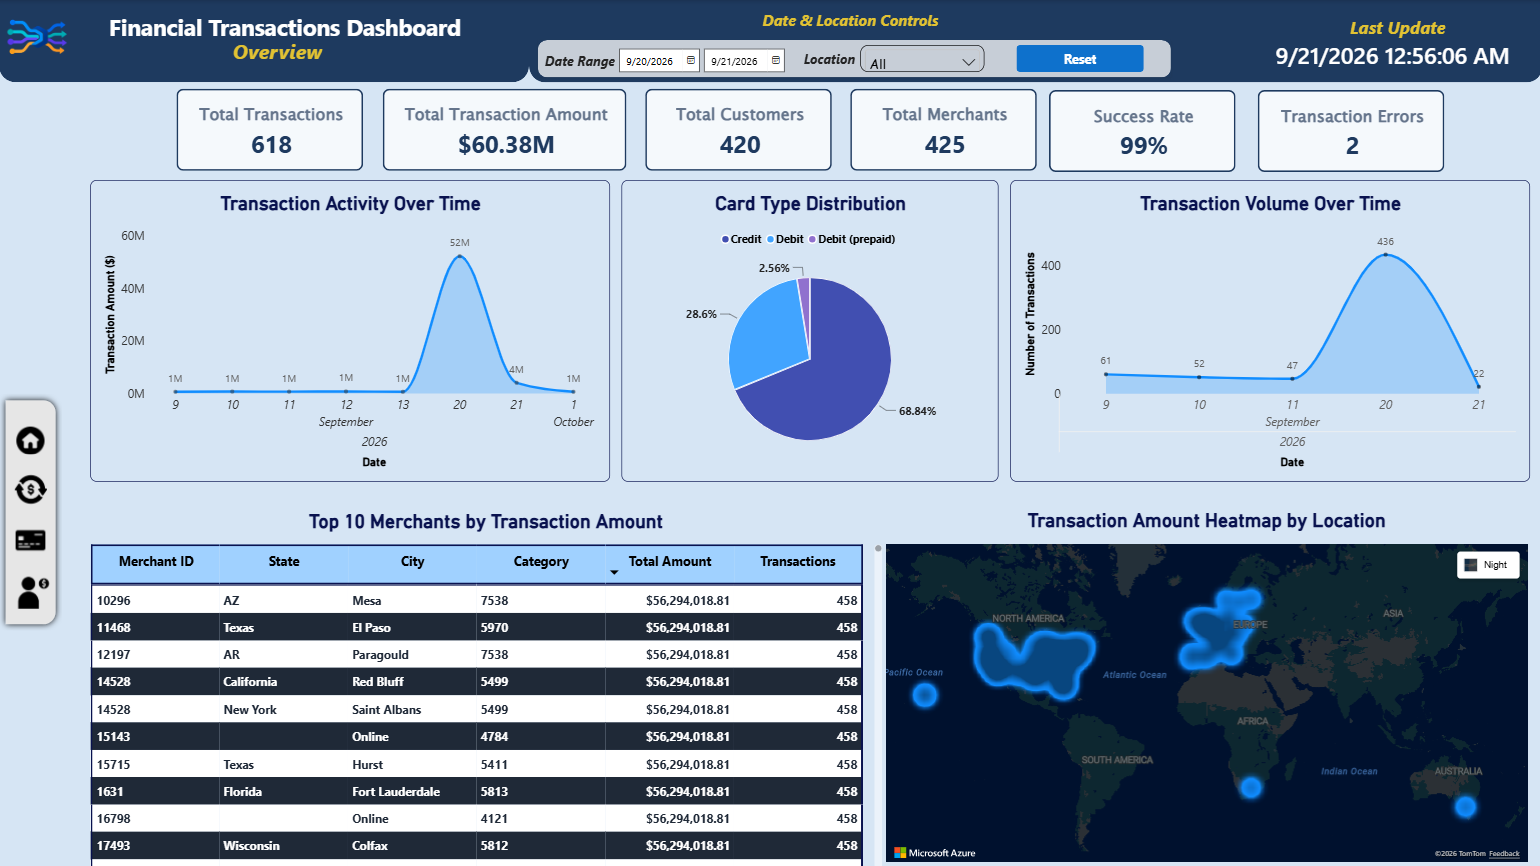

The dashboard page shown, as its layout file describes it:
{"tool":"powerbi","page":{"name":"overview","canvas":[1920,1080],"ordinal":1},"visuals":[{"type":"shape","box":[0,0,659.1,102.4],"z":0},{"type":"shape","box":[670.3,50.3,787.6,46.5],"z":0,"group":"g1"},{"type":"shape","box":[0,489,78.5,294.8],"z":0,"group":"g2"},{"type":"slicer","fields":{"Values":["fact_transactions.timestamp"]},"box":[763.4,55.8,223.4,37.2],"z":1000,"group":"g1"},{"type":"cardVisual","fields":{"Data":["daily_amount_summary.Total Transactions"]},"box":[220.4,109.6,232.7,102.4],"z":1000},{"type":"image","box":[0,3.5,94.2,85.5],"z":2000},{"type":"shape","box":[674,50.3,98.7,50.3],"z":2000,"group":"g1"},{"type":"shape","box":[659.2,0,1260.8,102.7],"z":3000},{"type":"shape","box":[983.1,48.4,100.5,50.3],"z":3000,"group":"g1"},{"type":"shape","box":[136.9,3.6,437.7,59.4],"z":4000},{"type":"slicer","fields":{"Values":["dim_merchant.merchant_state"]},"box":[1070.6,55.8,154.5,33.5],"z":4000,"group":"g1"},{"type":"shape","box":[279.2,37.8,133.3,50.4],"z":5000},{"type":"actionButton","box":[1266.1,55.8,158.3,33.5],"z":5000,"group":"g1"},{"type":"cardVisual","title":"Last Update","fields":{"Data":["Min(Last_Update.Last Update)"]},"box":[1571.5,46.5,337,42.8],"z":6000},{"type":"shape","box":[1625.5,16.8,227.2,33.5],"z":7000},{"type":"shape","box":[919.8,0,277.4,50.3],"z":8000},{"type":"group","id":"g1","title":"Group 1","box":[670.3,48.4,787.6,52.1],"z":9000},{"type":"cardVisual","fields":{"Data":["Sum(daily_amount_summary.total_transaction_amount)"]},"box":[477.4,109.6,303.5,102.4],"z":10000},{"type":"cardVisual","fields":{"Data":["dim_customer.Total Customers"]},"box":[803.2,109.6,232.7,102.4],"z":11000},{"type":"cardVisual","fields":{"Data":["dim_merchant.Total Merchants"]},"box":[1058.3,109.6,232.7,102.4],"z":12000},{"type":"cardVisual","fields":{"Data":["daily_status_summary.Success Rate"]},"box":[1305.9,111.5,232.7,102.4],"z":13000},{"type":"cardVisual","fields":{"Data":["transaction_error_summary.Transaction Errors"]},"box":[1564.7,111.5,232.7,102.4],"z":14000},{"type":"group","id":"g2","title":"Group 2","box":[0,489,79.3,294.8],"z":15000},{"type":"lineChart","title":"Transaction Activity Over Time","fields":{"Category":["daily_amount_summary.transaction_date.Variation.Date Hierarchy.Year","daily_amount_summary.transaction_date.Variation.Date Hierarchy.Month","daily_amount_summary.transaction_date.Variation.Date Hierarchy.Day"],"Y":["daily_amount_summary.Total Transaction Amount"]},"box":[114,224.2,646.4,375.5],"z":16000},{"type":"actionButton","box":[0.7,514.1,78.3,66.3],"z":16000,"group":"g2"},{"type":"lineChart","title":"Transaction Volume Over Time","fields":{"Category":["daily_status_summary.transaction_date.Variation.Date Hierarchy.Year","daily_status_summary.transaction_date.Variation.Date Hierarchy.Month","daily_status_summary.transaction_date.Variation.Date Hierarchy.Day"],"Y":["Sum(daily_status_summary.total_transactions)"]},"box":[1257.2,224.2,646.4,375.5],"z":17000},{"type":"actionButton","box":[11.1,577,57.4,61.1],"z":17000,"group":"g2"},{"type":"pieChart","title":"Card Type Distribution","fields":{"Category":["dim_card.card_type"],"Y":["CountNonNull(dim_card.card_id)"]},"box":[773.4,224.2,468.9,375.5],"z":18000},{"type":"actionButton","box":[5,634.2,69.6,75.1],"z":18000,"group":"g2"},{"type":"tableEx","title":"Top 10 Merchants by Transaction Amount","fields":{"Values":["dim_merchant.merchant_id","dim_merchant.merchant_state","dim_merchant.merchant_city","dim_merchant.merchant_category_code","Sum(fact_transactions.amount)","fact_transactions.transaction_id"]},"box":[114,618.3,984.5,461.4],"z":19000},{"type":"actionButton","box":[8,700.5,71.2,71.5],"z":19000,"group":"g2"},{"type":"azureMap","title":"Transaction Amount Heatmap by Location","fields":{"Category":["geographic_summary.merchant_city"],"Size":["Sum(geographic_summary.total_transaction_amount)"]},"box":[1098.8,619.2,805.8,457],"z":20000}]}

Visuals, with their boxes in screenshot pixels (x1, y1, x2, y2), scaled from the page's 1920x1080 canvas onto the 1540x866 screenshot:
shape: crop(0, 0, 529, 82)
shape: crop(538, 40, 1169, 78)
shape: crop(0, 392, 63, 628)
slicer - fact_transactions.timestamp: crop(612, 45, 791, 75)
cardVisual - daily_amount_summary.Total Transactions: crop(177, 88, 363, 170)
image: crop(0, 3, 76, 71)
shape: crop(541, 40, 620, 81)
shape: crop(529, 0, 1539, 82)
shape: crop(789, 39, 869, 79)
shape: crop(110, 3, 461, 51)
slicer - dim_merchant.merchant_state: crop(859, 45, 983, 72)
shape: crop(224, 30, 331, 71)
actionButton: crop(1016, 45, 1142, 72)
"Last Update" cardVisual: crop(1260, 37, 1531, 72)
shape: crop(1304, 13, 1486, 40)
shape: crop(738, 0, 960, 40)
"Group 1" group: crop(538, 39, 1169, 81)
cardVisual - Sum(daily_amount_summary.total_transaction_amount): crop(383, 88, 626, 170)
cardVisual - dim_customer.Total Customers: crop(644, 88, 831, 170)
cardVisual - dim_merchant.Total Merchants: crop(849, 88, 1035, 170)
cardVisual - daily_status_summary.Success Rate: crop(1047, 89, 1234, 172)
cardVisual - transaction_error_summary.Transaction Errors: crop(1255, 89, 1442, 172)
"Group 2" group: crop(0, 392, 64, 628)
"Transaction Activity Over Time" lineChart: crop(91, 180, 610, 481)
actionButton: crop(1, 412, 63, 465)
"Transaction Volume Over Time" lineChart: crop(1008, 180, 1527, 481)
actionButton: crop(9, 463, 55, 512)
"Card Type Distribution" pieChart: crop(620, 180, 996, 481)
actionButton: crop(4, 509, 60, 569)
"Top 10 Merchants by Transaction Amount" tableEx: crop(91, 496, 881, 865)
actionButton: crop(6, 562, 64, 619)
"Transaction Amount Heatmap by Location" azureMap: crop(881, 497, 1528, 863)
